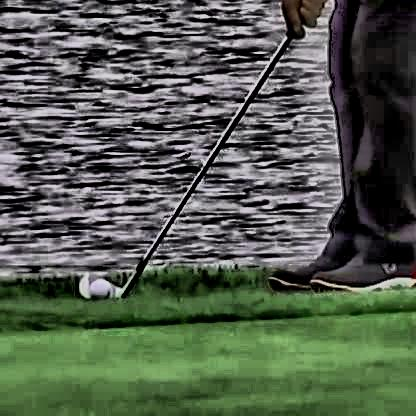golfball: (84, 278, 114, 300)
